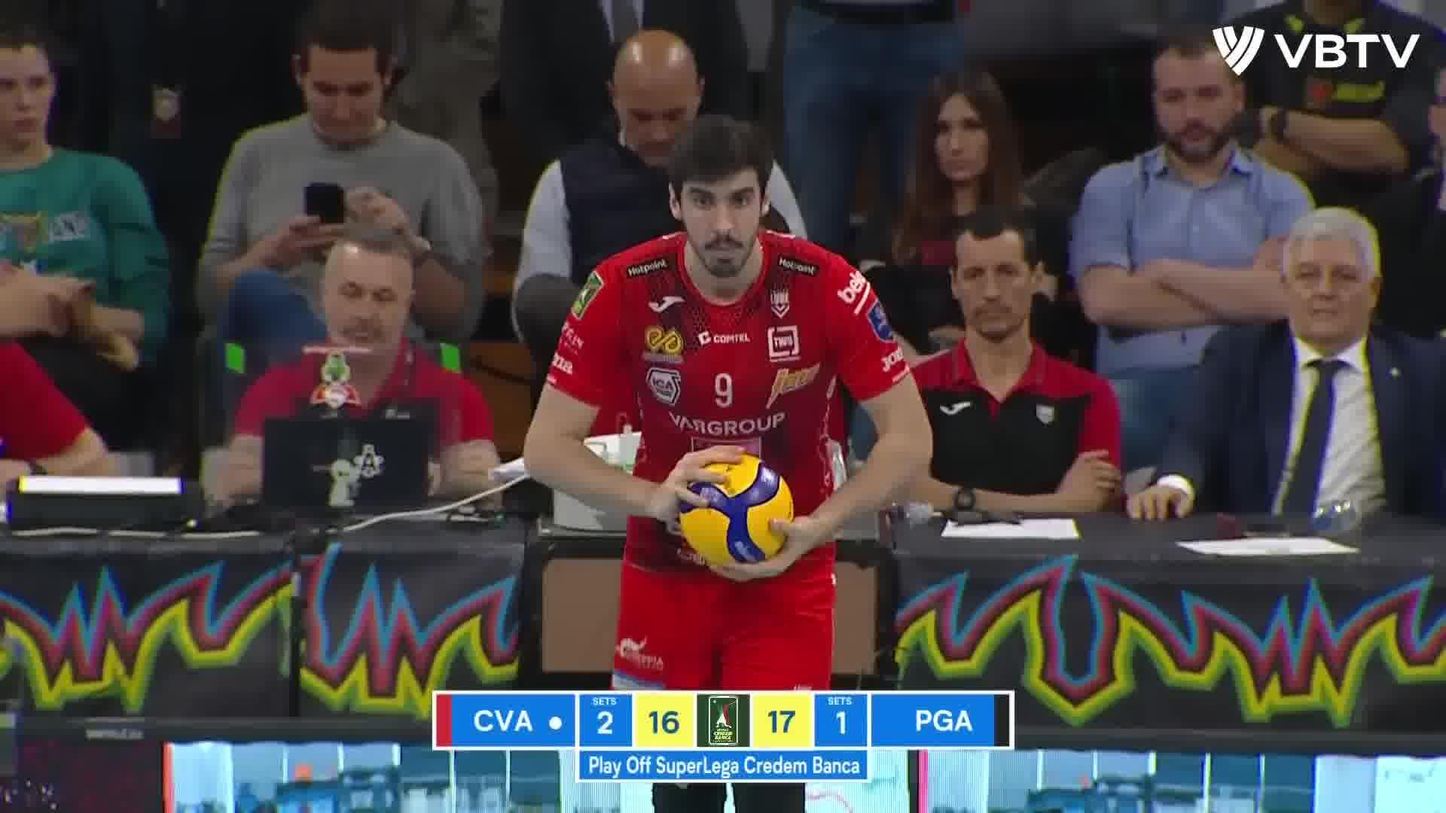balls: (676, 457, 795, 566)
